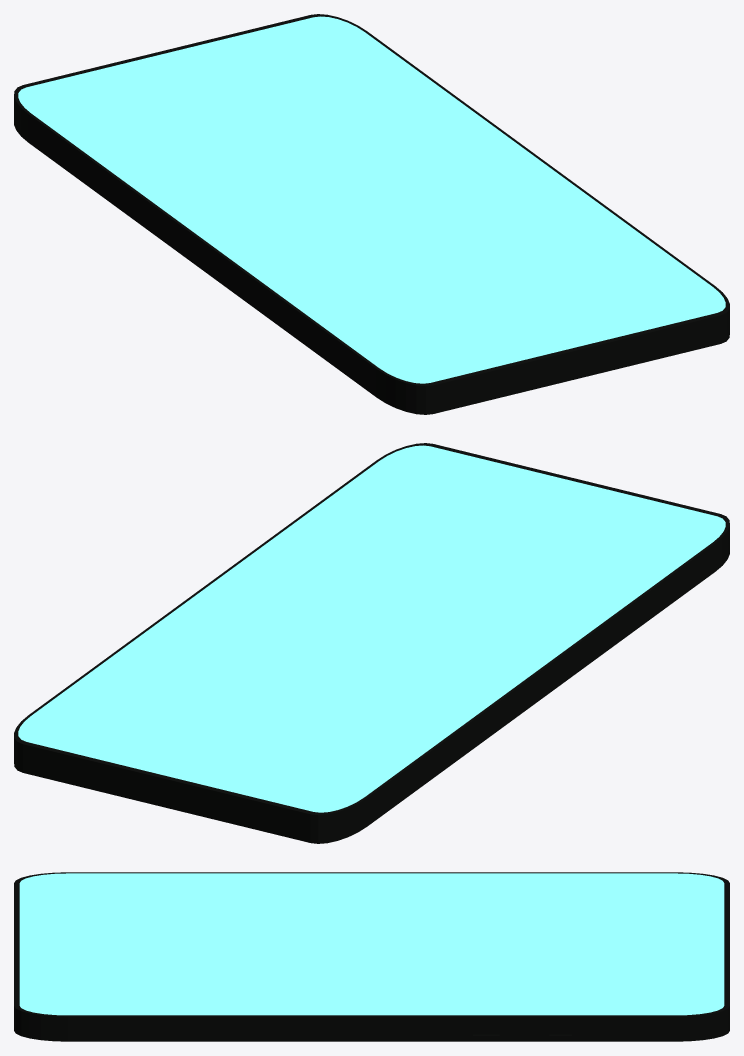
File: minimal_smart_phone.glb
3 renders of one model, top to bottom at view 1: azimuth 30°, elevation 25°; view 2: azimuth 150°, elevation 25°; view 3: azimuth 270°, elevation 25°, orthographic. The views are drawn at different scales.
Parts seen in each view (by area): view 1: Cube; view 2: Cube; view 3: Cube.
Part boxes in pixels (x1=…): Cube: x1=14, y1=14, x2=729, y2=414; Cube: x1=14, y1=443, x2=729, y2=843; Cube: x1=14, y1=872, x2=729, y2=1041.
Size of the model in its own units: 847 by 74.66 by 1759.
